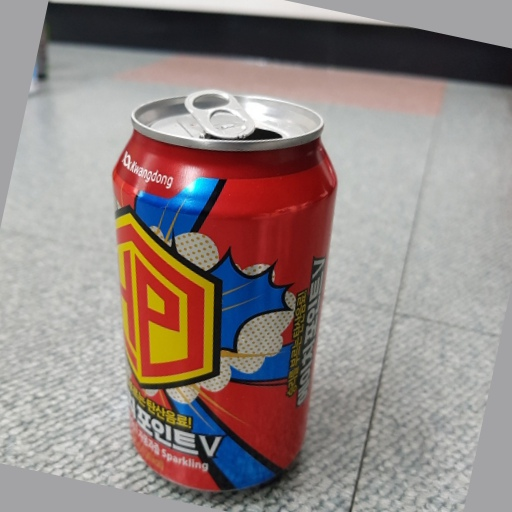Metal_0: (110, 88, 338, 494)
